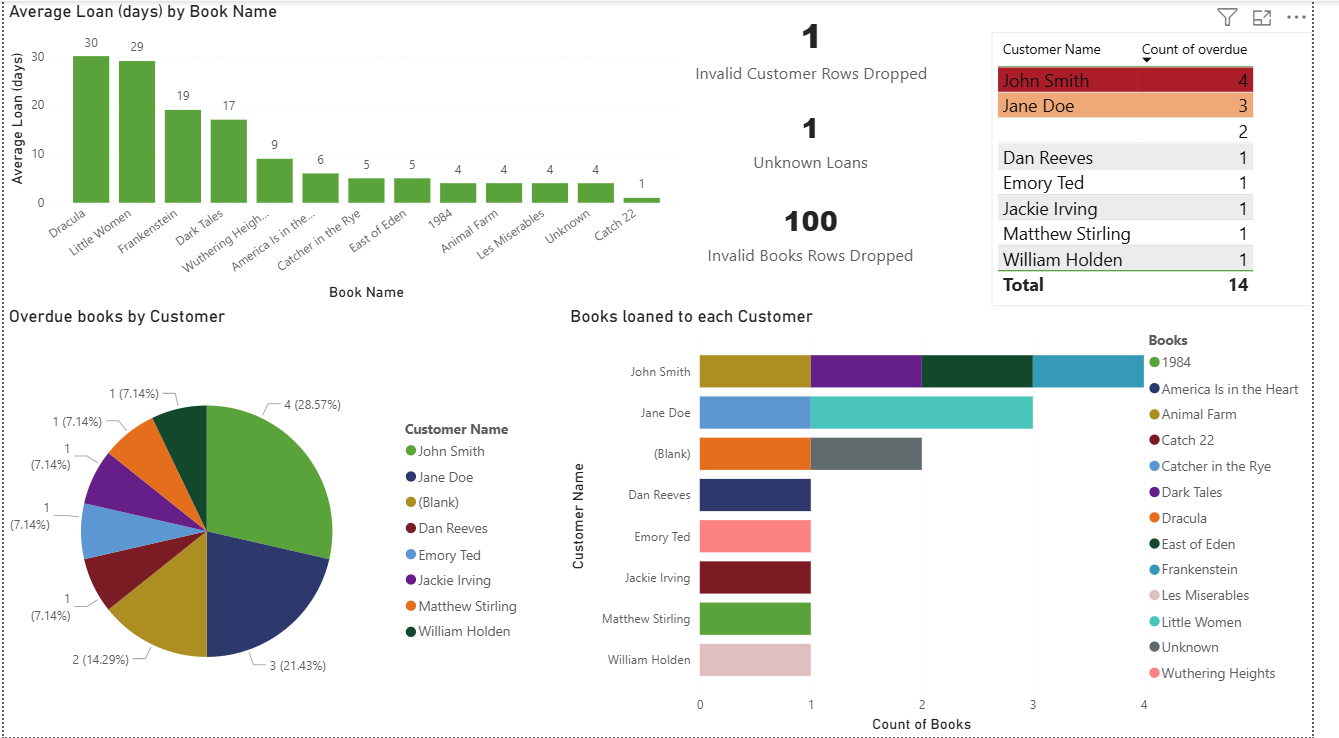

This screenshot's page, from the dashboard's own definition file:
{"tool":"powerbi","page":{"name":"Page 1","canvas":[1280,720],"ordinal":0},"visuals":[{"type":"card","fields":{"Values":["books.Rows Dropped"]},"box":[676.2,181,226.2,90.5],"z":0},{"type":"card","fields":{"Values":["customers.Rows Dropped from Customers"]},"box":[665.2,0,249.5,90.5],"z":1000},{"type":"pieChart","title":"Overdue books by Customer","fields":{"Category":["customers_clean.Customer Name","books_clean.overdue"],"Y":["CountNonNull(books_clean.overdue)"]},"box":[0,298.4,516,421.9],"z":2000},{"type":"clusteredColumnChart","fields":{"Y":["Avg(books_clean.loan_duration)"],"Category":["books_clean.Books"]},"box":[0,0,665.2,298.4],"z":3000},{"type":"card","fields":{"Values":["books_clean.Unknown Loans"]},"box":[723.9,90.5,130.8,90.5],"z":4000},{"type":"barChart","title":"Books loaned to each Customer","fields":{"Category":["customers_clean.Customer Name"],"Y":["CountNonNull(books_clean.Books)"],"Series":["books_clean.Books"]},"box":[549.1,298.4,731.3,421.9],"z":5000},{"type":"tableEx","fields":{"Values":["customers_clean.Customer Name","books_clean.overdue"]},"box":[966,30.6,314.3,267.8],"z":5001}]}

Visuals, with their boxes in screenshot pixels (x1, y1, x2, y2), scaled from the page's 1280x720 canvas onto the 1339x738 screenshot:
card - books.Rows Dropped: <bbox>707, 186, 944, 278</bbox>
card - customers.Rows Dropped from Customers: <bbox>696, 0, 957, 93</bbox>
"Overdue books by Customer" pieChart: <bbox>0, 306, 540, 737</bbox>
clusteredColumnChart - Avg(books_clean.loan_duration) x books_clean.Books: <bbox>0, 0, 696, 306</bbox>
card - books_clean.Unknown Loans: <bbox>757, 93, 894, 186</bbox>
"Books loaned to each Customer" barChart: <bbox>574, 306, 1338, 737</bbox>
tableEx - customers_clean.Customer Name x books_clean.overdue: <bbox>1011, 31, 1338, 306</bbox>
